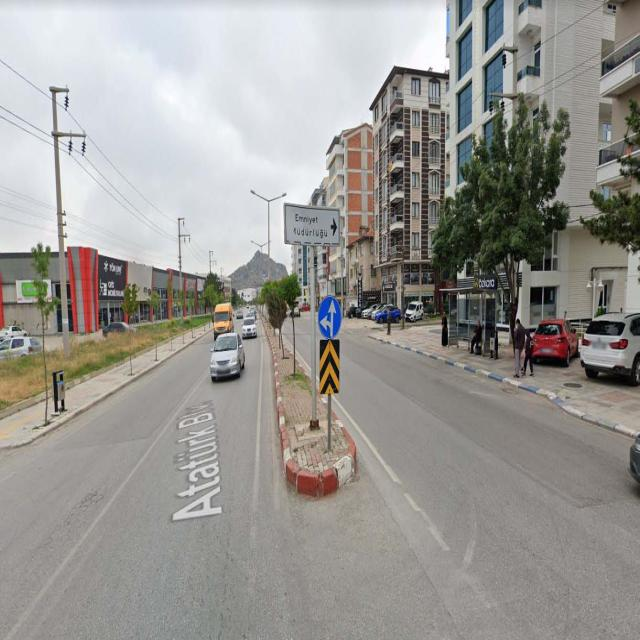ilerisol: (318, 294, 344, 340)
